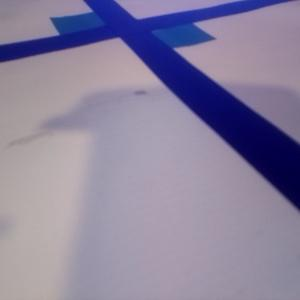bottom_right: (131, 20, 216, 49)
top_left: (49, 10, 126, 36)
